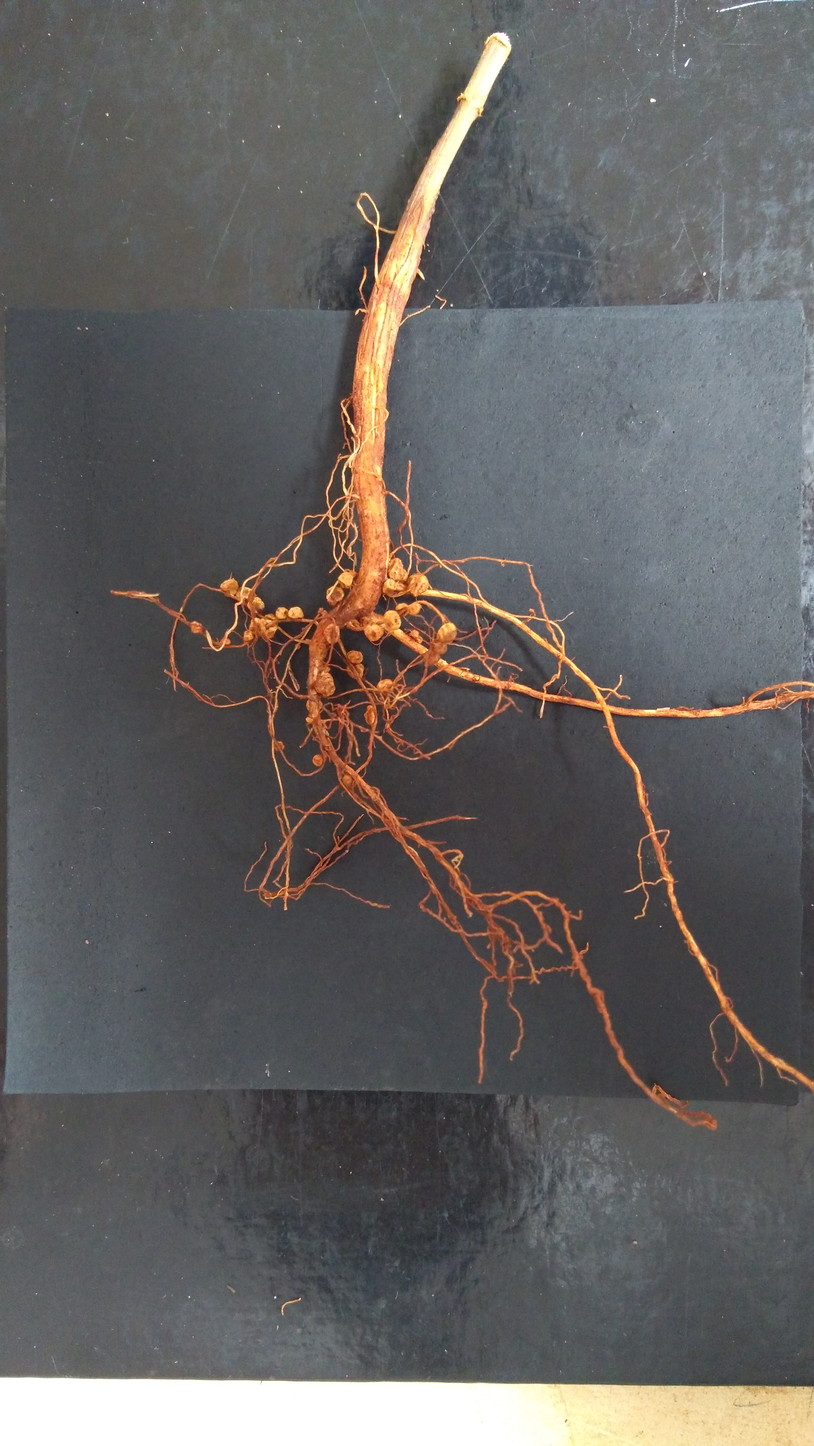nodule: (249, 617, 277, 639), (381, 578, 409, 598), (407, 573, 429, 597), (387, 558, 407, 583), (315, 673, 335, 696), (436, 622, 456, 643), (326, 586, 344, 606), (364, 624, 384, 642), (384, 610, 401, 631), (323, 623, 340, 644), (220, 579, 238, 597), (236, 586, 255, 603), (422, 649, 440, 665), (347, 663, 365, 679), (337, 572, 354, 588), (262, 613, 278, 629), (431, 639, 448, 654), (247, 597, 264, 612), (376, 679, 393, 694), (363, 705, 375, 725), (347, 650, 363, 664), (342, 772, 356, 788), (306, 699, 323, 711), (409, 629, 422, 644), (408, 603, 422, 616), (395, 603, 409, 616), (368, 786, 380, 801), (288, 607, 304, 618), (276, 607, 289, 619), (346, 619, 360, 630), (317, 608, 327, 623), (190, 621, 202, 633), (305, 712, 318, 722), (312, 755, 323, 766), (243, 630, 254, 641), (274, 741, 284, 751), (320, 666, 331, 673), (220, 638, 230, 645), (322, 729, 329, 737), (295, 643, 301, 649)
